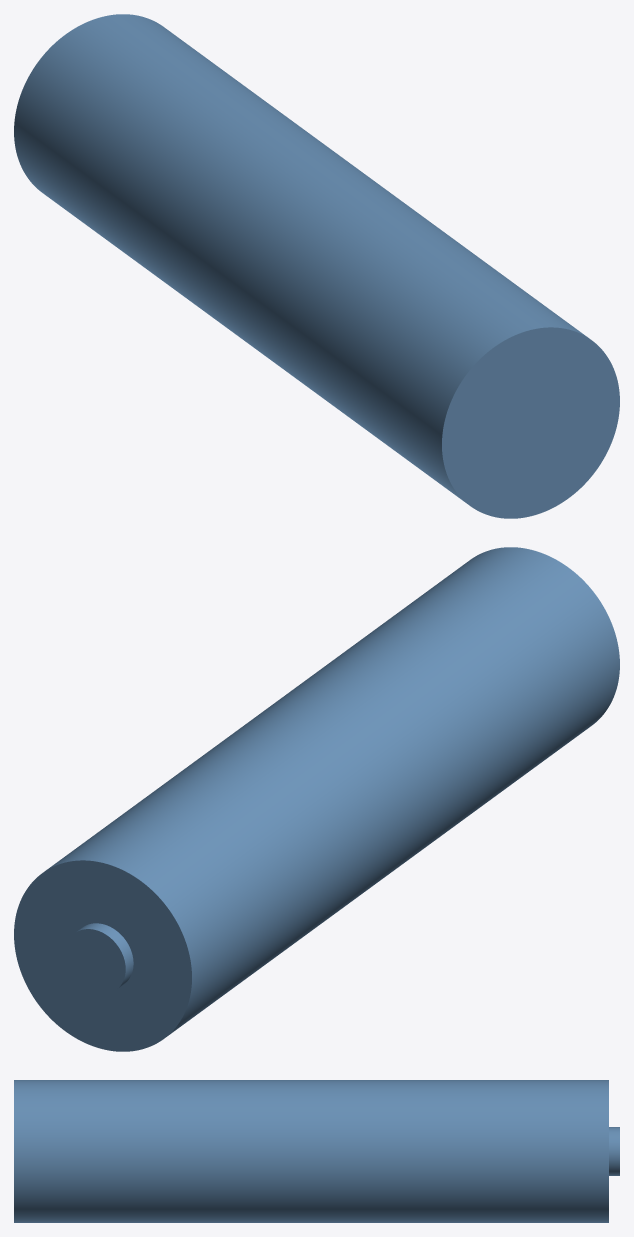
The model's file is esp2025_p12_battery.glb.
3 renders of one model, top to bottom at view 1: azimuth 30°, elevation 25°; view 2: azimuth 150°, elevation 25°; view 3: azimuth 270°, elevation 25°, orthographic. The views are drawn at different scales.
Visible parts, largest first — view 1: AAA cell; view 2: AAA cell; view 3: AAA cell.
Boxes of the visible parts, left/top/right/bottom form: AAA cell: left=14, top=14, right=619, bottom=518; AAA cell: left=14, top=547, right=619, bottom=1051; AAA cell: left=14, top=1080, right=619, bottom=1222.
Size of the model in its own units: 10.5 by 10.5 by 44.5.
